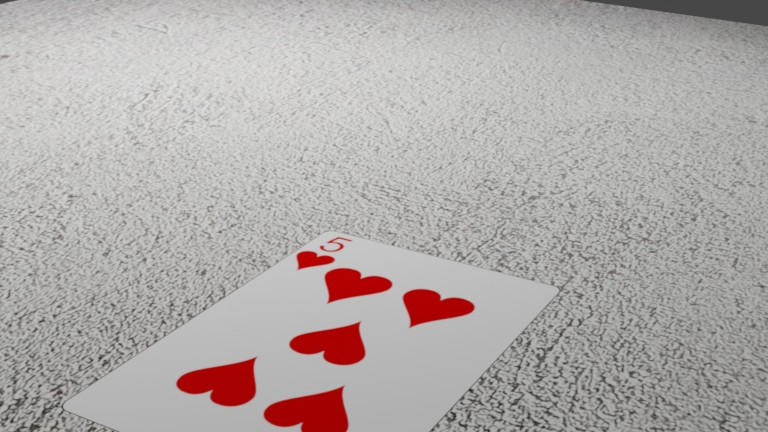5_of_hearts: (278, 232, 367, 276), (288, 426, 413, 432)
